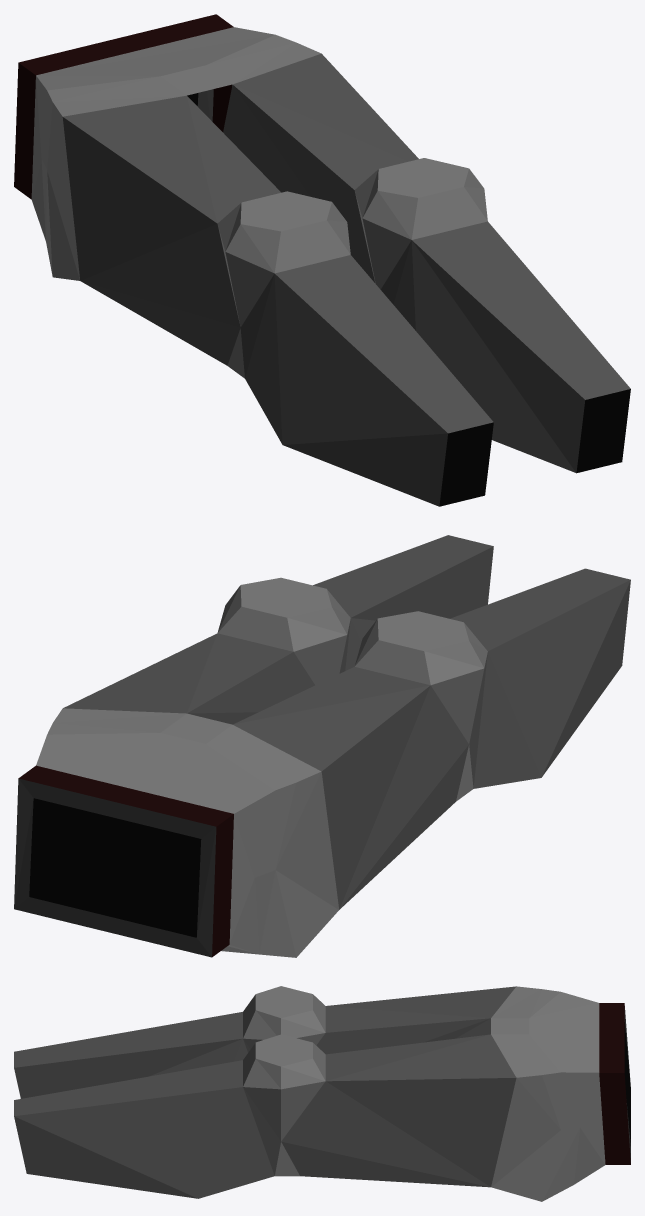
The model's file is iron_platelegs_inventory.obj.
The picture shows the model from 3 angles, top to bottom: view 1: azimuth 30°, elevation 25°; view 2: azimuth 150°, elevation 25°; view 3: azimuth 270°, elevation 25°; orthographic projection. The views are drawn at different scales.
Parts seen in each view (by area): view 1: runescapemodel; view 2: runescapemodel; view 3: runescapemodel.
Boxes of the visible parts, x1,y1,x2,y2 form: runescapemodel: (14,14,630,506); runescapemodel: (14,535,630,957); runescapemodel: (14,986,630,1201).
Size of the model in its own units: 34 by 24 by 97.
